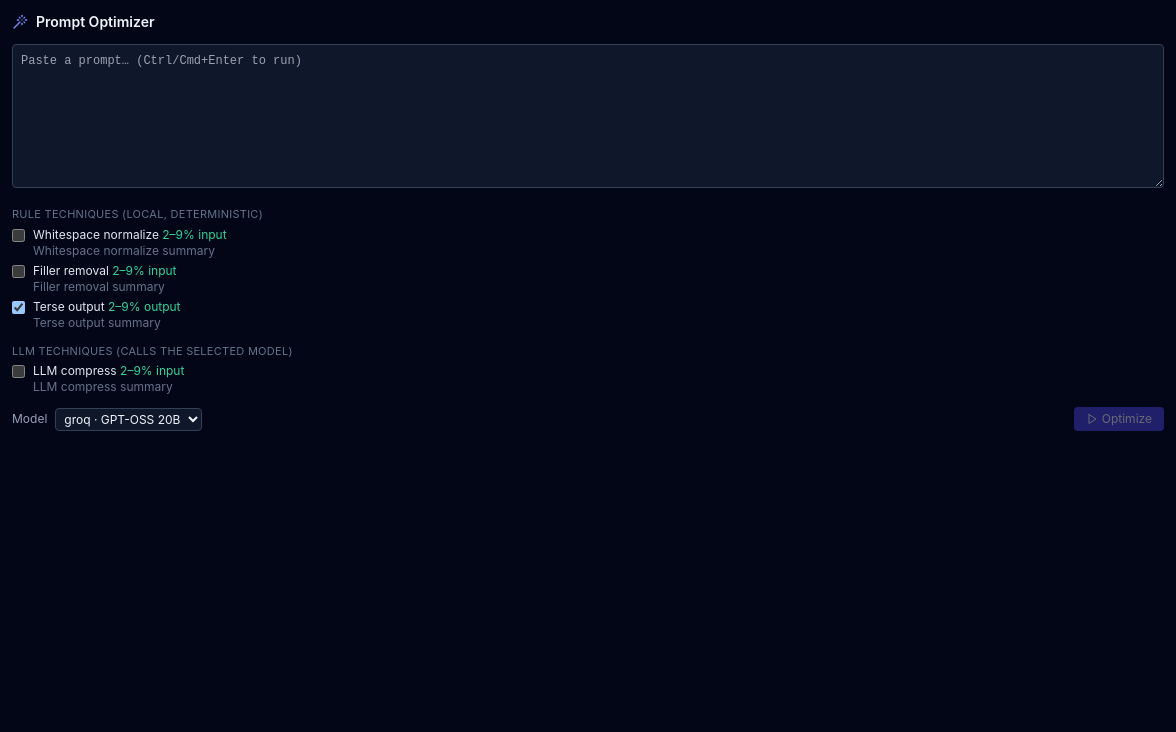
Scenario: PromptOptimizerView › warns when selected strategies estimate quality retention below 85%
The width and height of the screenshot is (1176, 732).
Type "Explain this." into the text box labelled "prompt" at x=588, y=116, box [12,44,1164,188]
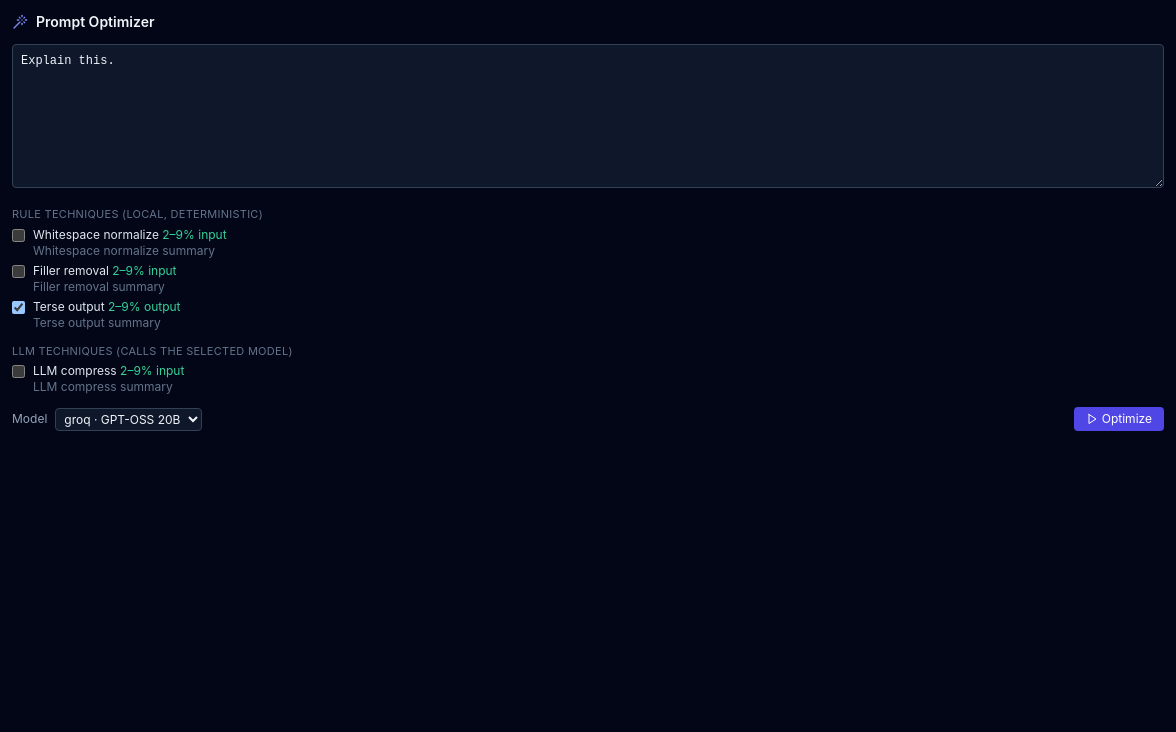
Click the button "Optimize" at x=1119, y=419, box [1074,407,1164,431]
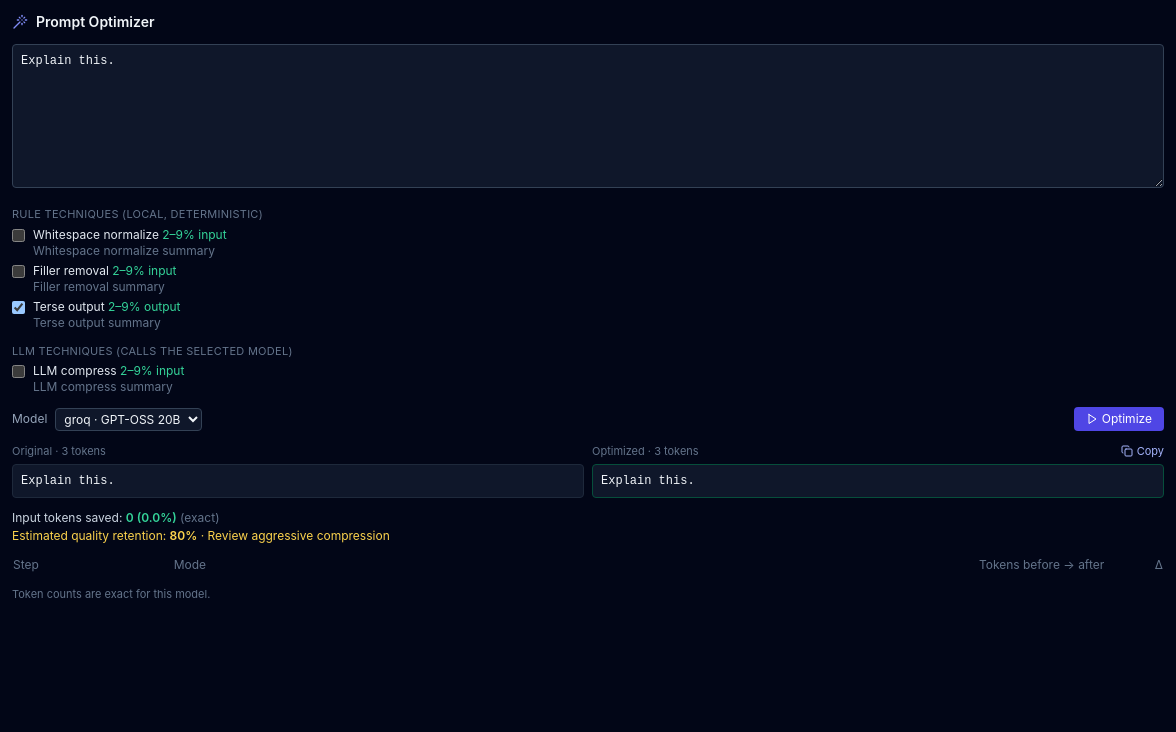
Expected: the message shows "Review aggressive compression", [197,528,390,542]
